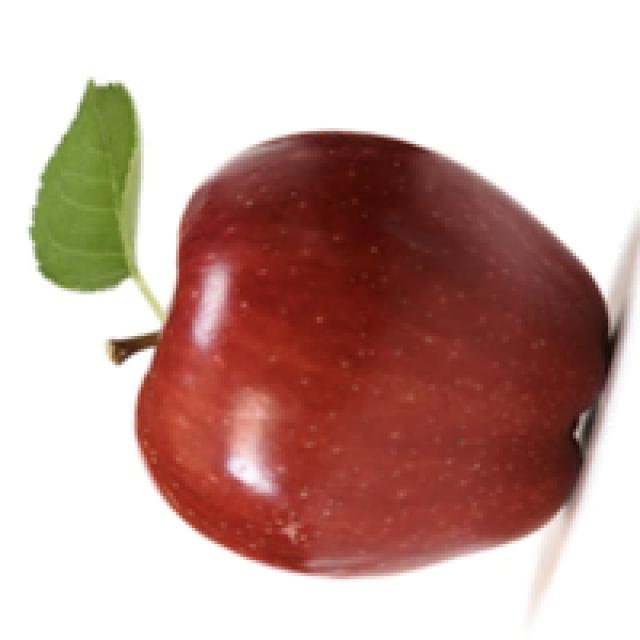apple: (22, 74, 637, 608)
